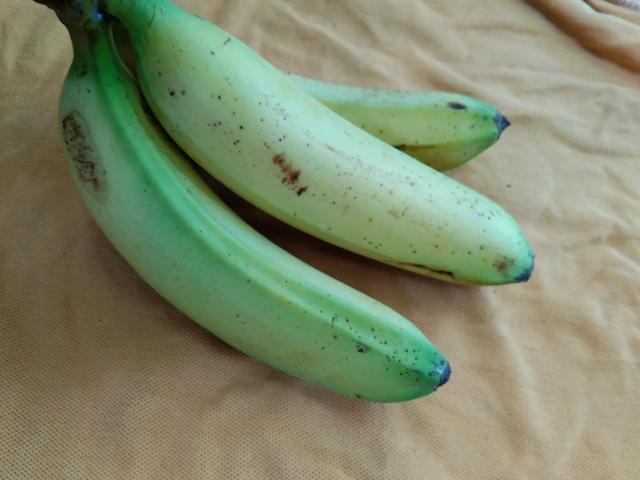ripe: (59, 73, 463, 404), (139, 11, 544, 298)
